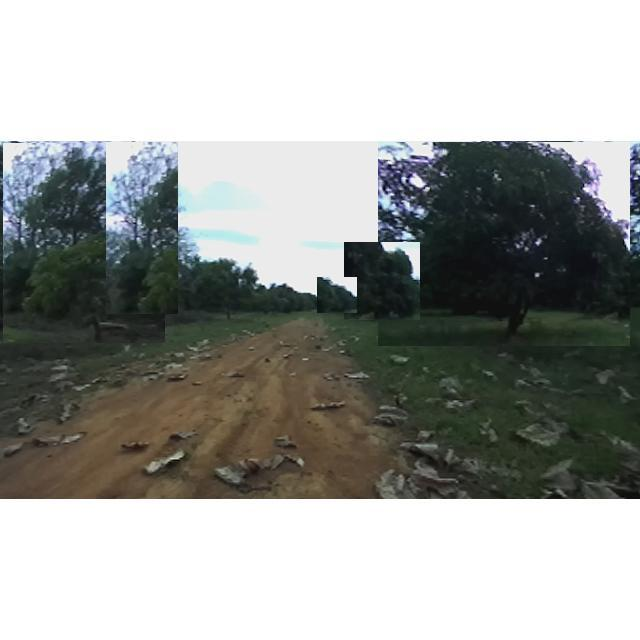tree: (378, 142, 630, 346), (3, 143, 165, 343), (106, 142, 178, 314), (344, 242, 421, 321), (184, 255, 266, 322), (250, 278, 302, 318), (317, 277, 357, 313)
